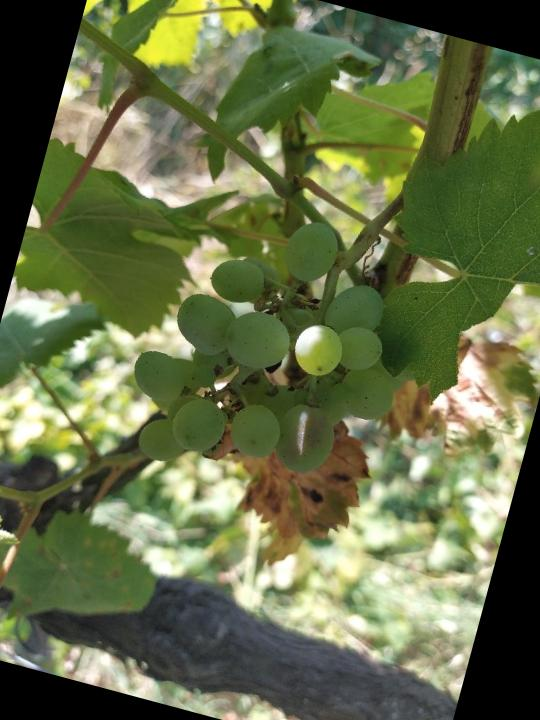grape: (110, 183, 444, 519)
